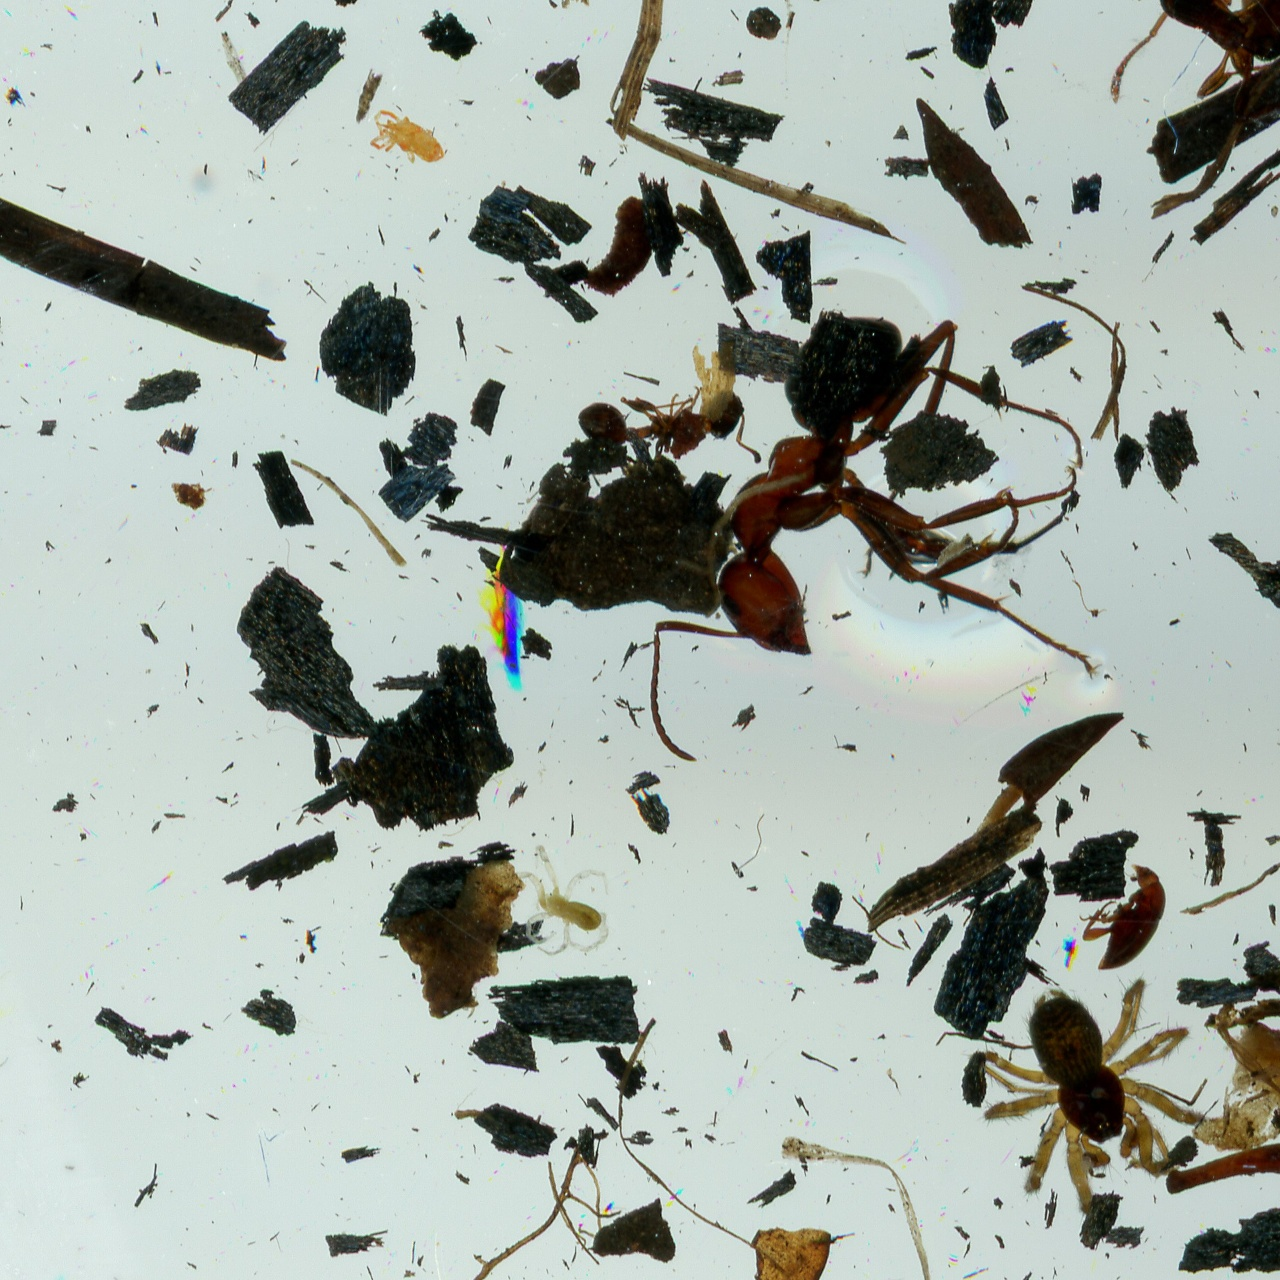arthropod: (643, 309, 1111, 780), (957, 967, 1217, 1219), (1100, 0, 1280, 127), (574, 381, 765, 473), (1063, 848, 1179, 988), (509, 842, 617, 957), (471, 540, 530, 696), (357, 99, 457, 182)
